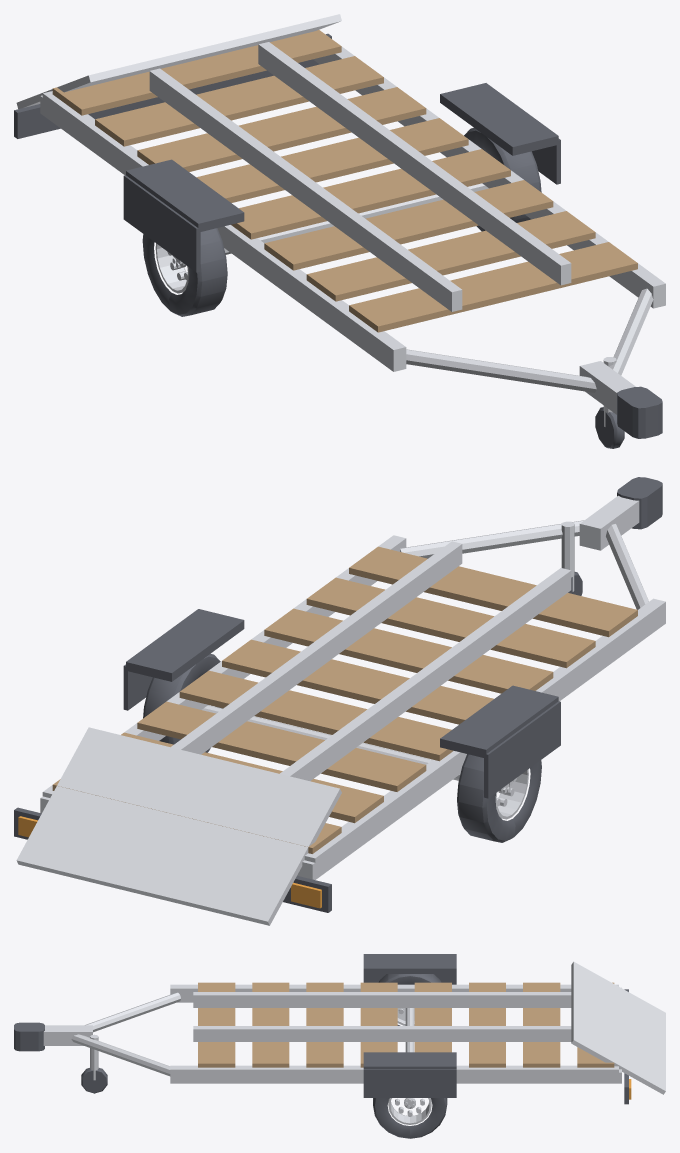
File: backcountry-snowboarding-and-avalanche-safety-snowmobi-a008c6f2__18931.glb
3 renders of one model, top to bottom at view 1: azimuth 30°, elevation 25°; view 2: azimuth 150°, elevation 25°; view 3: azimuth 270°, elevation 25°, orthographic. The views are drawn at different scales.
Visible parts, largest first — view 1: snowmobile-trailer, wheel-left (×2), wheel-right; view 2: snowmobile-trailer, wheel-left (×2), wheel-right; view 3: snowmobile-trailer, wheel-right (×2), wheel-left.
Part boxes in pixels (x1,y1,x2,y2): snowmobile-trailer: (14,14,665,448); wheel-left (×2): (142,228,227,316); wheel-right: (464,128,541,231); snowmobile-trailer: (14,477,665,925); wheel-left (×2): (457,754,541,842); wheel-right: (143,653,222,752); snowmobile-trailer: (14,954,665,1104); wheel-right (×2): (373,1098,447,1138); wheel-left: (378,974,441,1025).
Size of the model in its own units: 1.74 by 0.6086 by 4.21.
